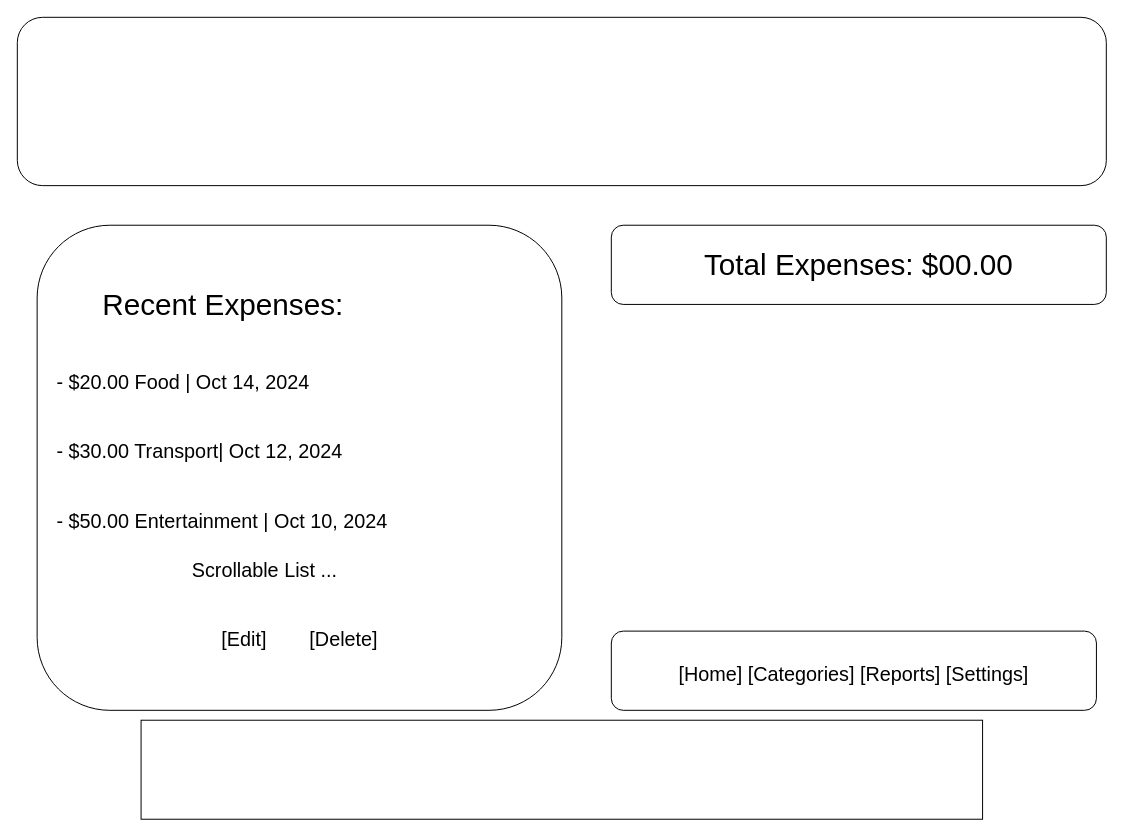
The diagram is 1124 pixels wide and 837 high, and some of its shapes have lost their labels. The box of each missing label's shape, as (x1, y1, x2, y2) in pixels:
Lorem Ipsum: (140, 719, 983, 819)
TrackIt: (16, 16, 1106, 186)
